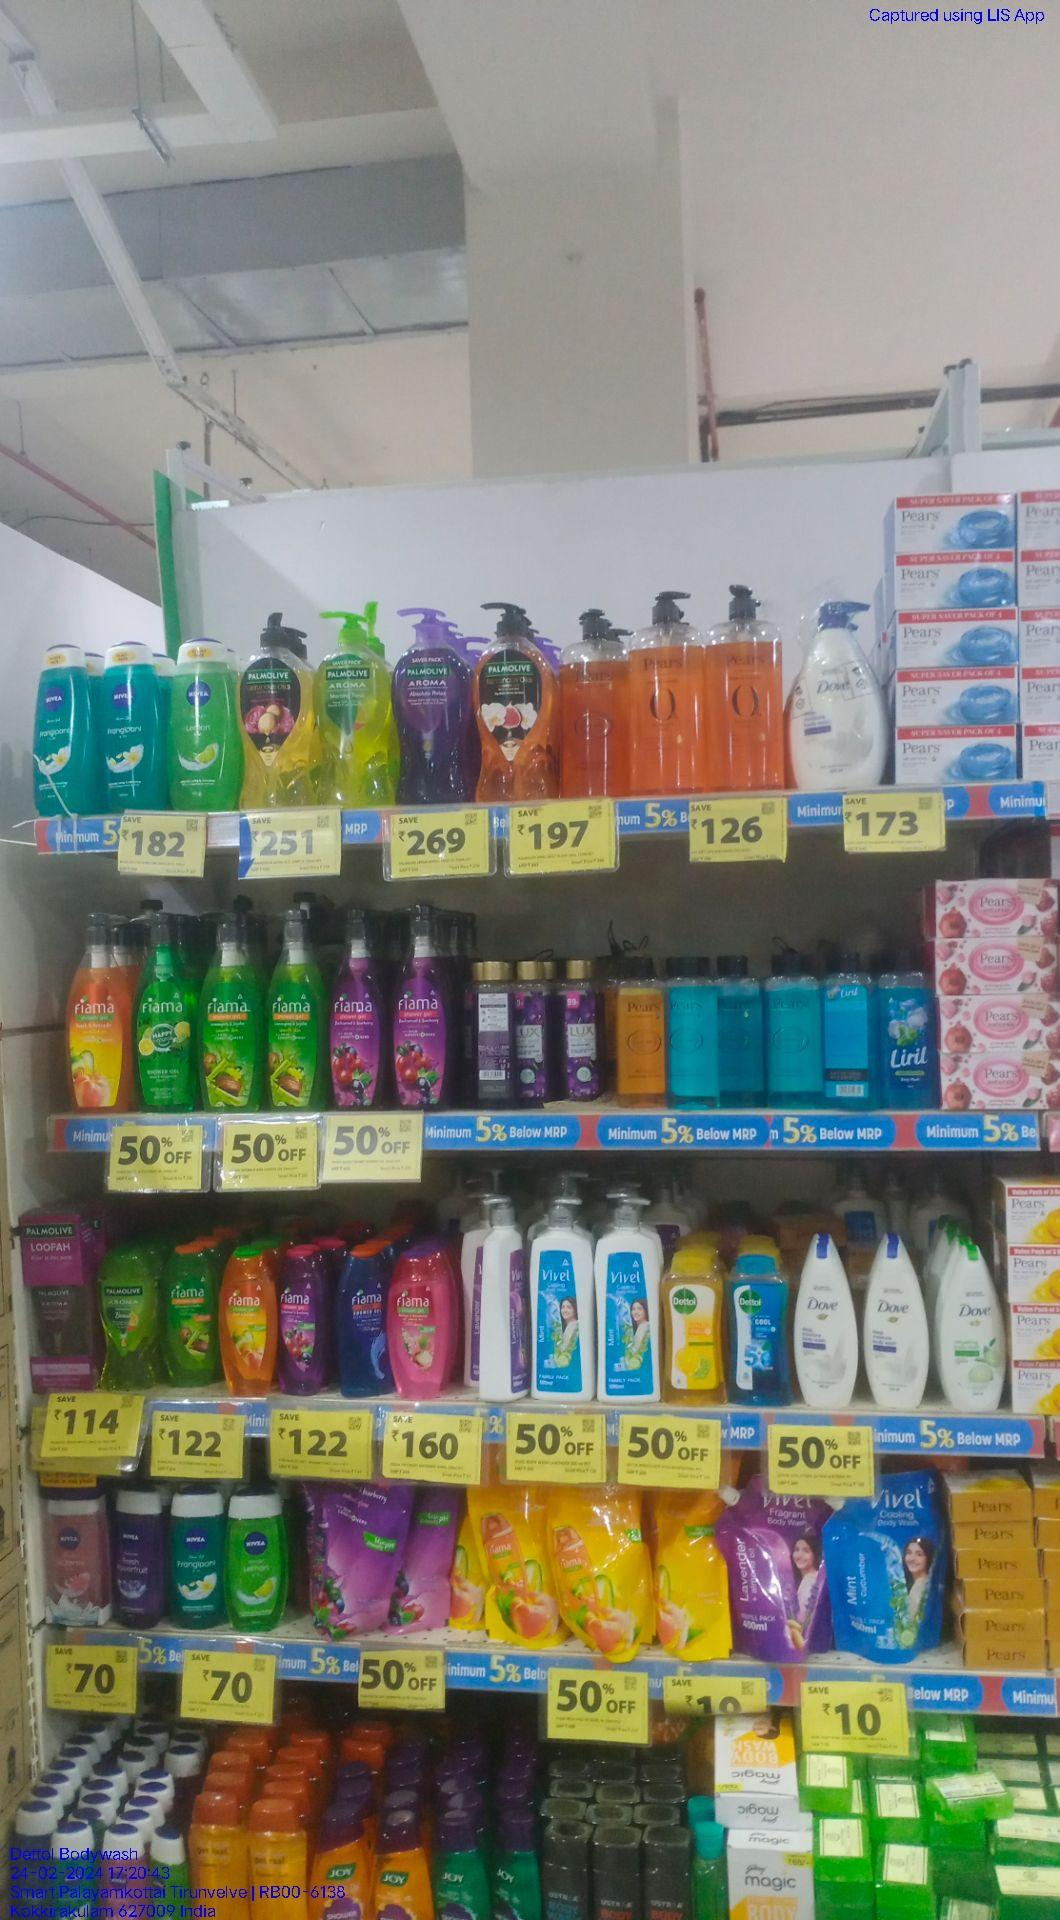Dettol_Bodywash_Cool: (730, 1258, 791, 1406)
Dettol_Bodywash_Refresh: (664, 1252, 723, 1404)
Dove_Deep_Moisture_Body_Wash_250ML: (864, 1240, 928, 1412), (792, 1244, 858, 1410)
Dove_Refreshing_Body_Wash_250ML: (940, 1244, 1005, 1412)
Fiama_Shower_Gel_Lemongrass_and_Jojoba_250ML: (162, 1248, 217, 1386)
Fiama_Shower_Gel_Patchouli_and_Macadamia_250ML: (389, 1252, 448, 1399)
Fiama_Shower_Gel_Peach_and_Avocado_250ML: (219, 1250, 278, 1397)
Liril_Cooling_Mint_Body_Wash_250ML: (877, 946, 940, 1108)
Lux_Black_Orchid_Scent_and_Juniper_Oil_Body_Wash_245ML: (559, 959, 602, 1099), (517, 963, 550, 1102)
Nivea_Shower_Gel_Frangipani_and_Oil_250ML: (101, 641, 158, 811), (31, 643, 87, 814), (174, 1497, 225, 1630)
Nivea_Shower_Gel_Fresh_Powerfruit_250ML: (110, 1488, 167, 1629)
Nivea_Shower_Gel_Lemon_and_Oil_250ML: (175, 638, 239, 808), (226, 1494, 288, 1633)
Nivea_Shower_Gel_Waterlily_and_Oil_250ML: (48, 1500, 106, 1628)
Palmolive_Aroma_Morning_Tonic_Shower_Gel_250ML: (98, 1250, 154, 1389)
Pears_Pure_Glycerin_and_Mint_Extracts_Body_Wash_250ML: (769, 954, 822, 1108), (666, 958, 719, 1109), (722, 957, 765, 1104)
